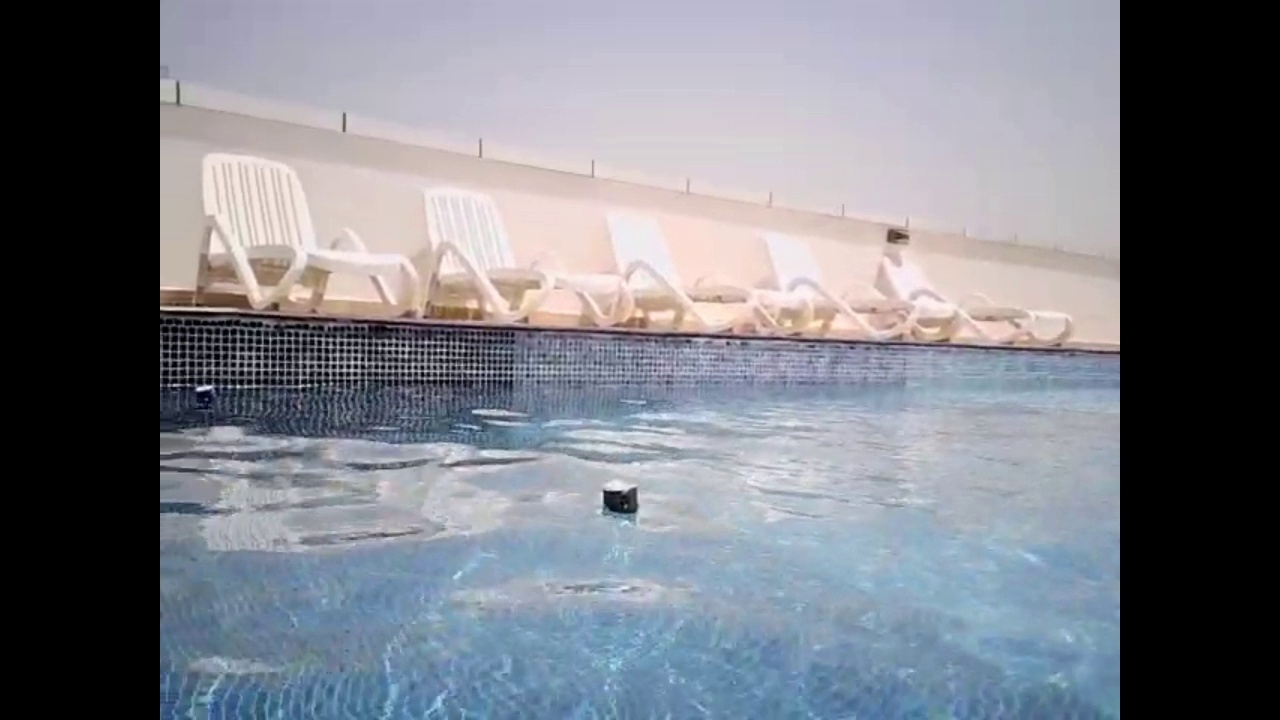debris: (593, 475, 646, 525), (189, 381, 222, 414)
